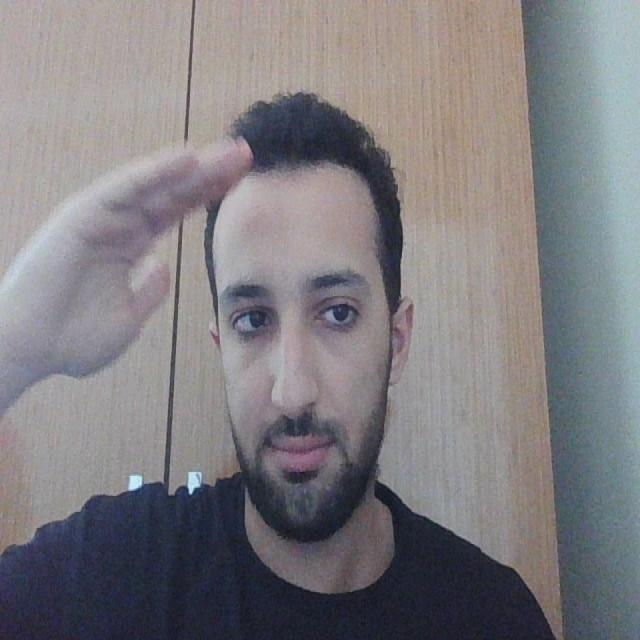Merhaba: (18, 119, 270, 477)
